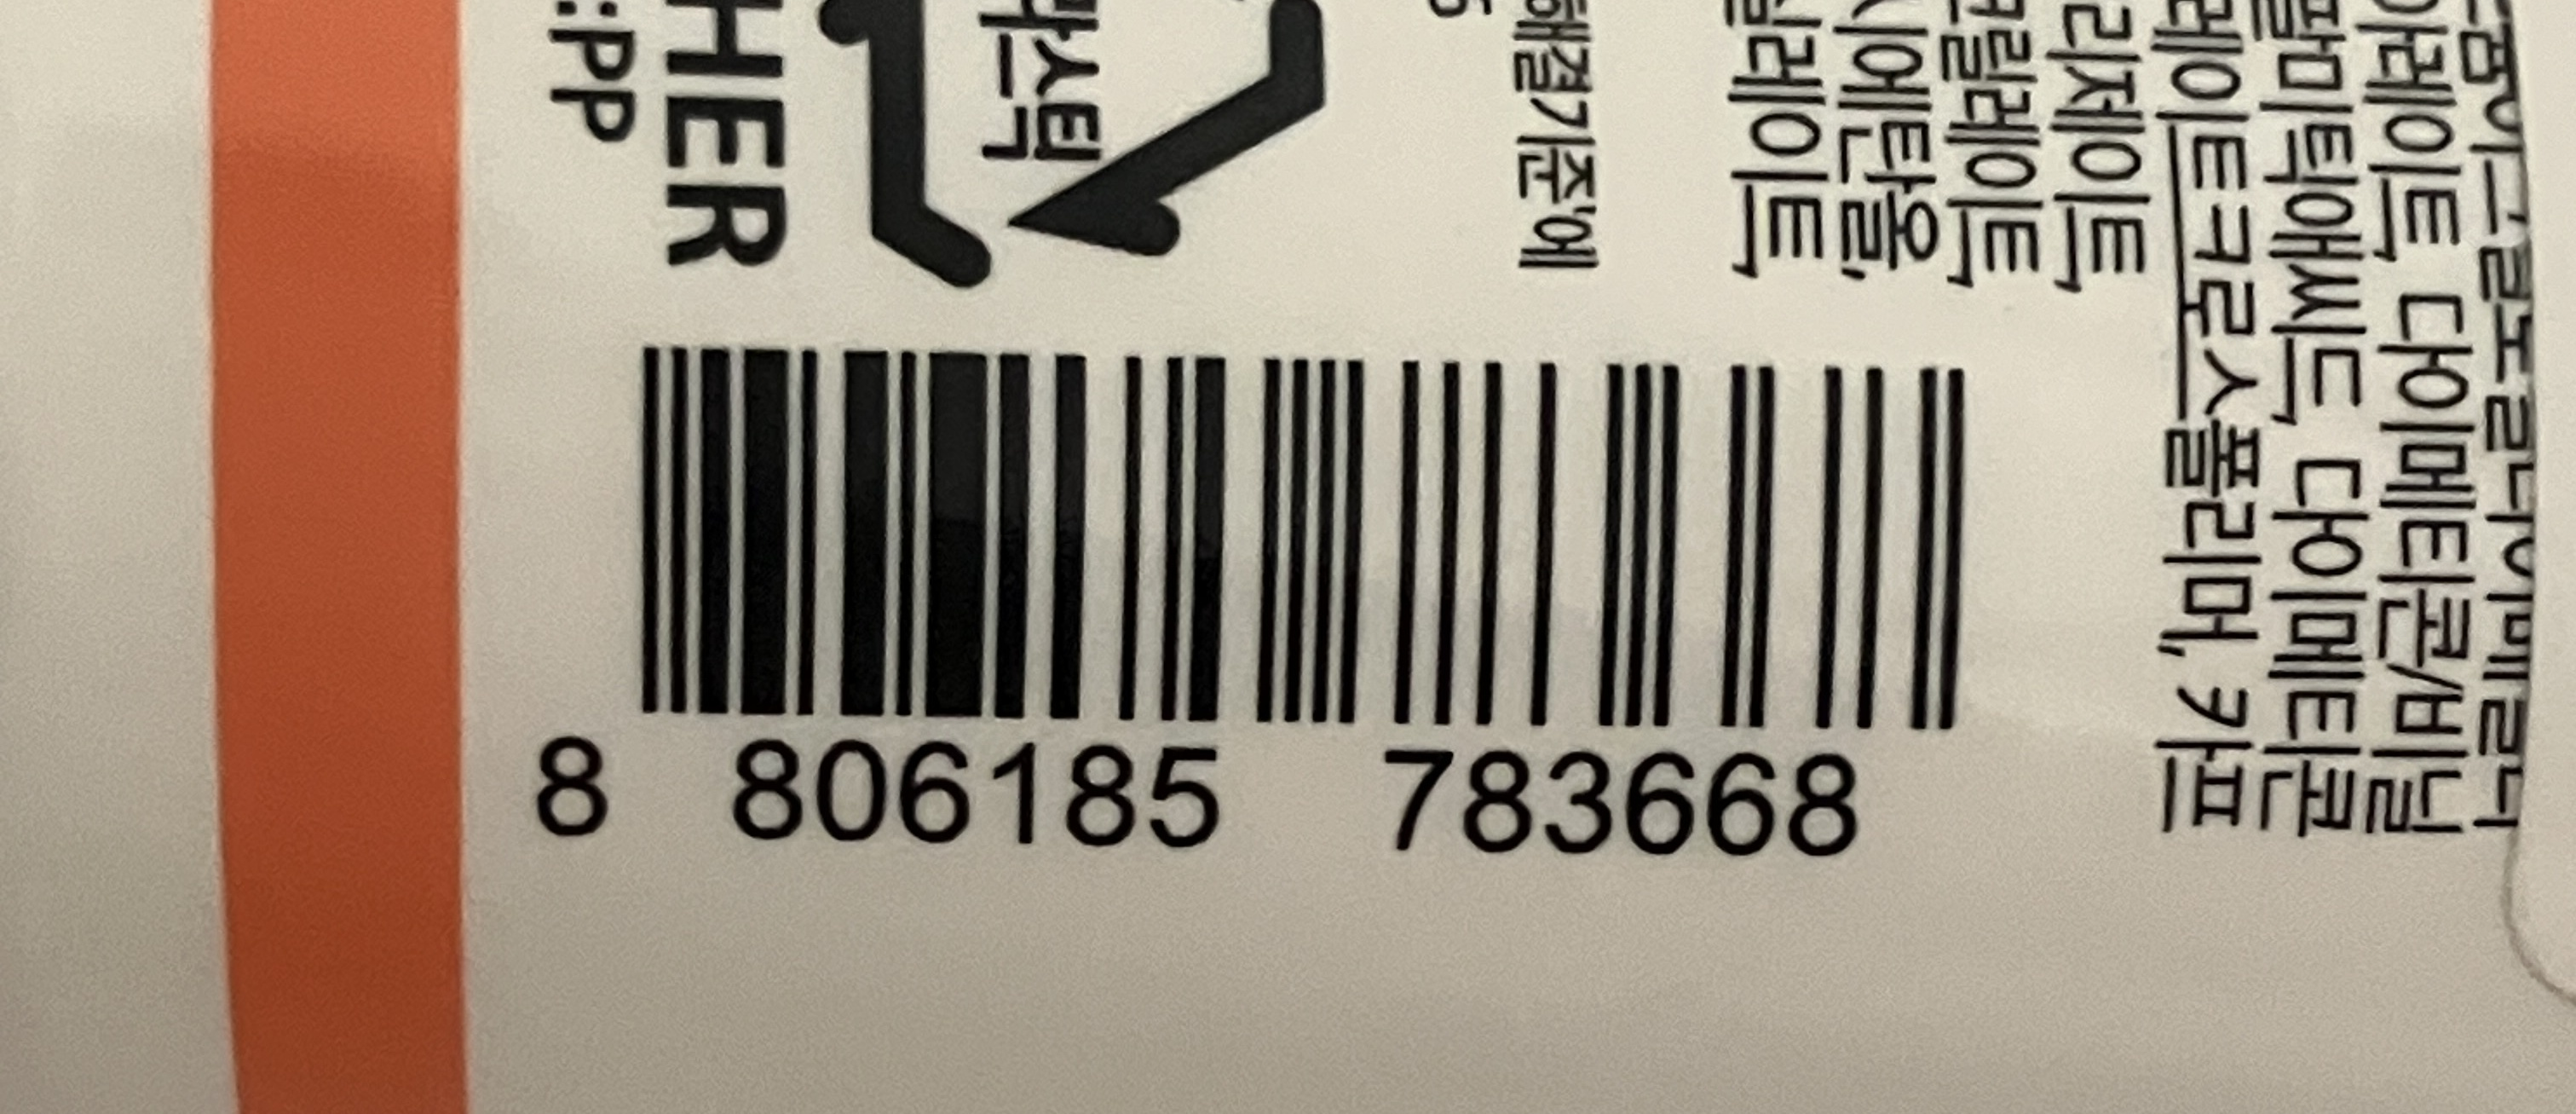1d: (641, 347, 1963, 723)
